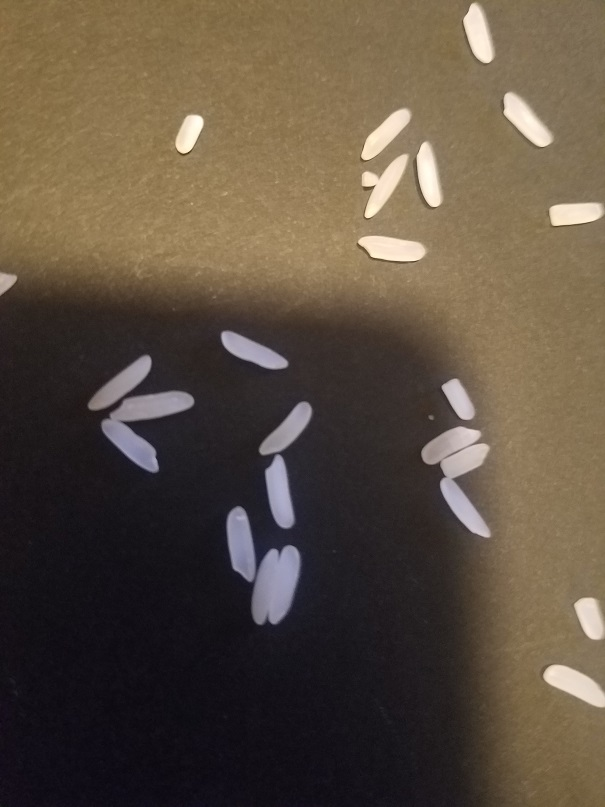egg: (89, 351, 155, 408), (438, 476, 494, 537), (101, 417, 161, 473), (500, 90, 555, 151), (217, 327, 292, 371), (257, 399, 314, 455), (362, 151, 408, 220), (268, 545, 306, 628), (539, 662, 605, 709), (363, 100, 413, 161), (106, 386, 195, 419), (418, 425, 485, 466), (224, 504, 260, 579), (263, 454, 299, 529), (250, 547, 281, 626), (413, 138, 446, 211), (355, 232, 427, 265), (463, 1, 497, 65), (441, 440, 491, 479), (438, 375, 479, 421), (570, 595, 605, 642), (546, 201, 605, 227), (173, 111, 207, 155), (1, 270, 19, 294), (361, 169, 383, 188)
